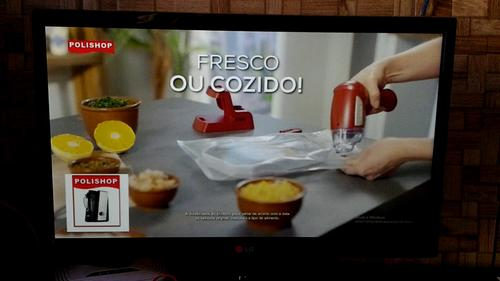Polishop #1: (66, 173, 129, 232)
